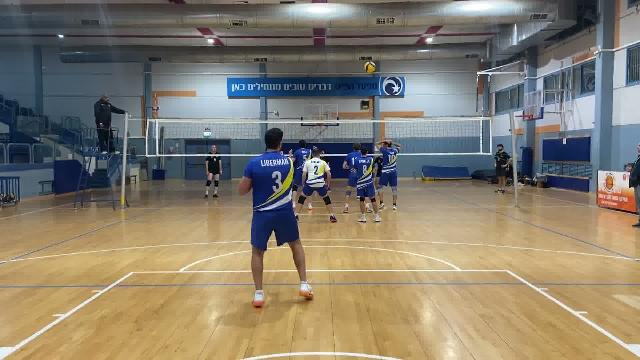ball: (363, 62, 378, 73)
